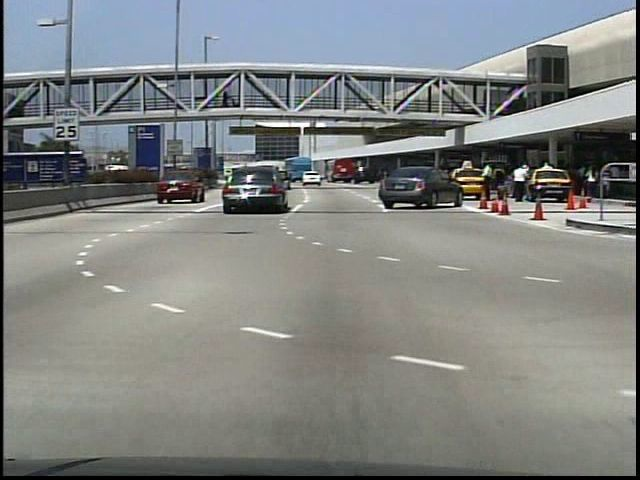person: (510, 160, 531, 204), (480, 163, 498, 205), (580, 165, 599, 203), (519, 162, 533, 202), (221, 90, 231, 111)
